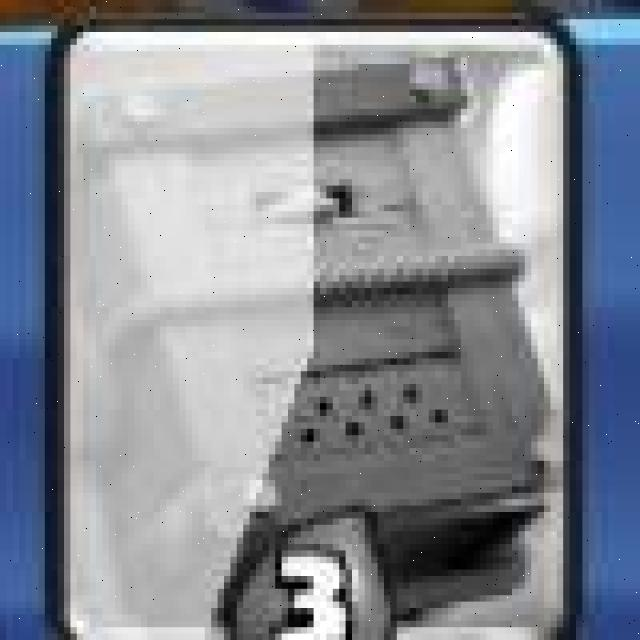Royal_Delivery: (45, 20, 575, 640)
